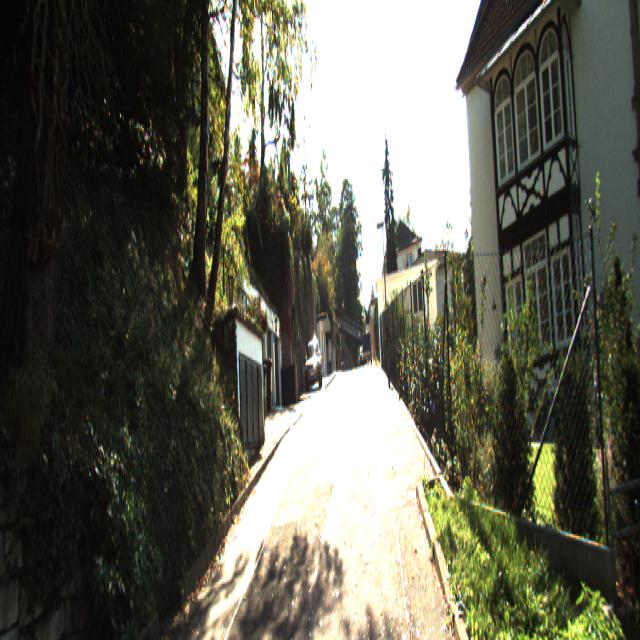Car: (306, 337, 321, 388)
